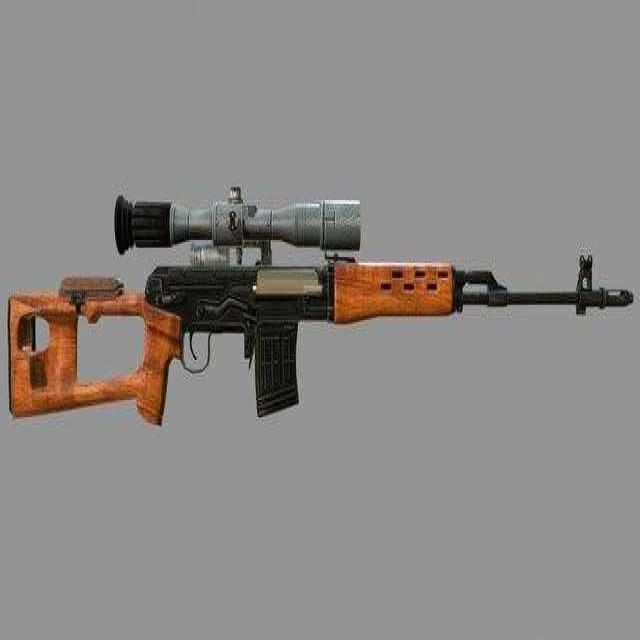heavyweapon: (1, 191, 640, 464)
